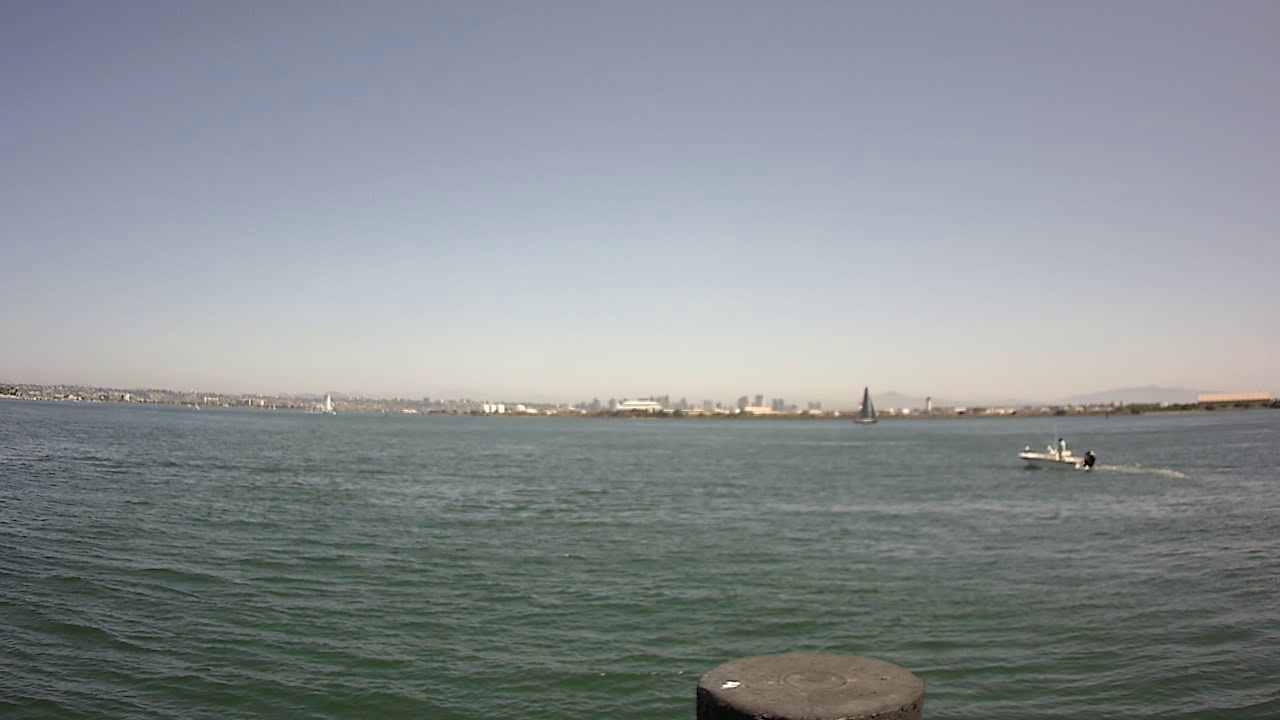target: (1016, 430, 1105, 475)
